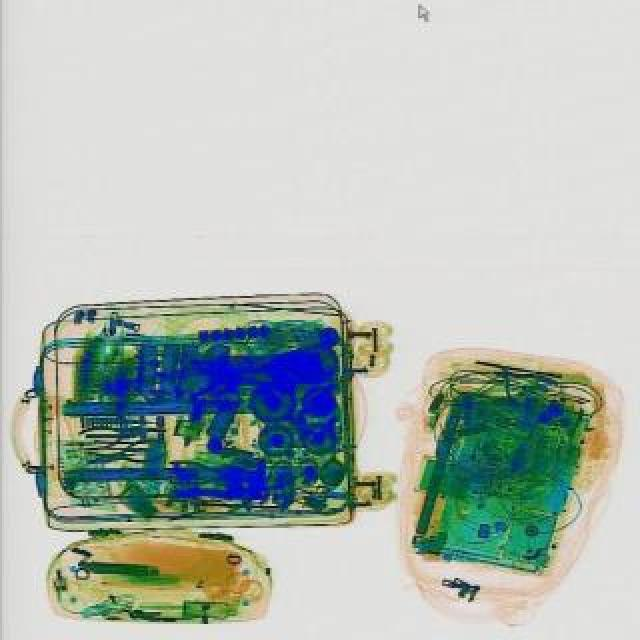wrench: (480, 350, 560, 418), (80, 432, 164, 476), (72, 414, 152, 452), (164, 460, 236, 484)
